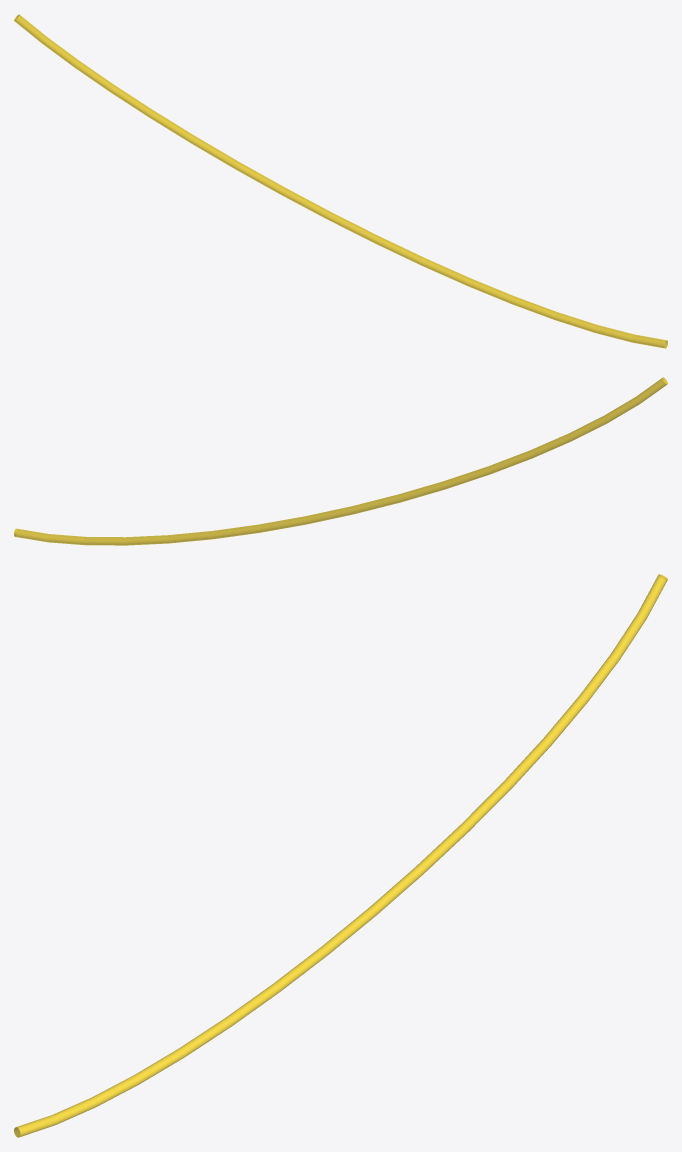
The model's file is Event_17758602_track_16.fbx.
3 renders of one model, top to bottom at view 1: azimuth 30°, elevation 25°; view 2: azimuth 210°, elevation 25°; view 3: azimuth 270°, elevation 25°, orthographic. The views are drawn at different scales.
Parts seen in each view (by area): view 1: Model; view 2: Model; view 3: Model.
Boxes of the visible parts, box(x1,y1,x2,y2) form: Model: box(14, 14, 667, 348); Model: box(14, 377, 667, 545); Model: box(14, 574, 667, 1137).
Bounding box in the file's own units: 2.2 × 1.28 × 2.41.
